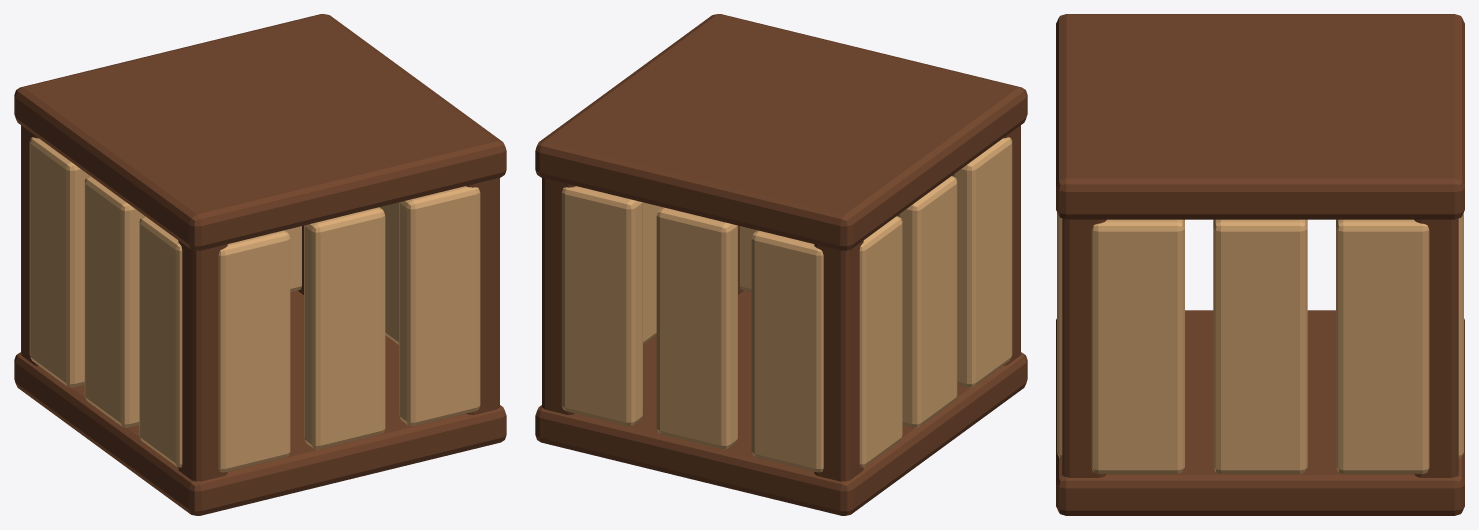
File: wooden-crate.glb
3 views of the same model, side by side, from view 1: azimuth 30°, elevation 25°; view 2: azimuth 150°, elevation 25°; view 3: azimuth 270°, elevation 25° (orthographic). The views are drawn at different scales.
Parts seen in each view (by area): view 1: crate · Walnut, crate · Natural oak; view 2: crate · Walnut, crate · Natural oak; view 3: crate · Walnut, crate · Natural oak.
Part boxes in pixels (x1,y1,x2,y2): crate · Walnut: (14,14,506,515); crate · Natural oak: (29,137,480,472); crate · Walnut: (535,14,1027,515); crate · Natural oak: (561,137,1012,472); crate · Walnut: (1056,14,1464,515); crate · Natural oak: (1057,212,1463,473).
Size of the model in its own units: 1 by 0.91 by 1.
